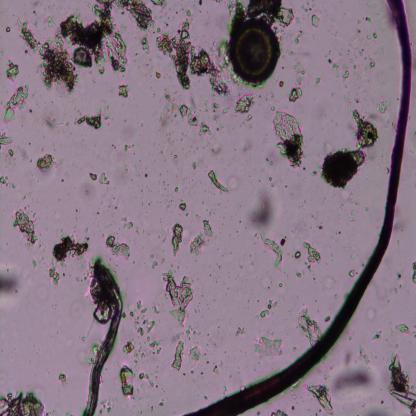Background material: (155, 25, 231, 100), (60, 1, 130, 76), (16, 14, 78, 92), (319, 144, 366, 194), (272, 106, 304, 172), (127, 300, 160, 360), (162, 270, 195, 327), (229, 1, 294, 25), (247, 186, 278, 233), (9, 206, 42, 249), (332, 365, 375, 397), (0, 258, 27, 304), (178, 102, 212, 137), (352, 108, 379, 152), (2, 83, 31, 123), (117, 1, 154, 32), (385, 352, 413, 392), (355, 12, 380, 55), (52, 234, 90, 262), (334, 192, 365, 226), (297, 305, 322, 346), (260, 229, 284, 271), (327, 52, 358, 84), (0, 393, 45, 415), (153, 99, 179, 135), (189, 218, 213, 256), (306, 383, 335, 414), (103, 231, 131, 260), (235, 89, 258, 123), (252, 338, 284, 361), (343, 85, 366, 115), (206, 168, 231, 195), (257, 141, 279, 170), (162, 133, 180, 168), (118, 365, 136, 399), (39, 108, 62, 133), (210, 102, 229, 132), (170, 222, 184, 260), (77, 339, 99, 363), (75, 113, 106, 130), (304, 238, 322, 266), (172, 340, 186, 374), (161, 176, 174, 210), (260, 298, 278, 322), (35, 152, 56, 172), (89, 168, 112, 186), (284, 29, 304, 49), (173, 328, 199, 343), (105, 194, 124, 214), (80, 179, 98, 200), (33, 278, 48, 302), (391, 268, 405, 293), (290, 61, 305, 84), (5, 58, 20, 81), (209, 352, 224, 375), (344, 240, 358, 264), (188, 342, 202, 366), (289, 84, 306, 103), (356, 341, 370, 364), (208, 139, 224, 159), (299, 0, 323, 13), (302, 263, 317, 283), (239, 134, 254, 154), (46, 265, 61, 284), (139, 370, 155, 387), (97, 397, 111, 416), (100, 98, 112, 120), (191, 153, 206, 170), (365, 304, 380, 321), (140, 190, 152, 211), (116, 83, 131, 99), (0, 176, 17, 190), (324, 273, 338, 290), (138, 38, 151, 56), (71, 302, 84, 320), (46, 401, 61, 416), (121, 138, 138, 151), (120, 159, 131, 179), (394, 322, 412, 334), (0, 132, 13, 148), (58, 372, 69, 390), (379, 100, 393, 114), (233, 326, 248, 339), (329, 228, 344, 241), (310, 12, 321, 29), (120, 221, 136, 232), (410, 261, 416, 289), (192, 298, 204, 312), (152, 0, 168, 10), (122, 340, 134, 353), (372, 328, 383, 342), (268, 172, 279, 185), (218, 382, 229, 395), (56, 154, 66, 168), (232, 173, 240, 190), (178, 199, 188, 211), (159, 393, 167, 407), (155, 232, 166, 242), (294, 249, 302, 260), (31, 257, 38, 269), (149, 401, 156, 413), (7, 148, 15, 158), (368, 59, 374, 71), (80, 224, 89, 232), (325, 311, 331, 323), (152, 260, 159, 270), (276, 280, 284, 288), (5, 25, 12, 34), (384, 163, 390, 173), (318, 224, 326, 231), (328, 89, 334, 98), (64, 410, 73, 416), (334, 292, 340, 301), (351, 269, 356, 279), (138, 406, 143, 416), (295, 271, 302, 278), (310, 171, 317, 178), (316, 76, 322, 84), (110, 142, 116, 150), (140, 121, 146, 129), (95, 207, 100, 216), (201, 394, 208, 400), (239, 263, 245, 270), (190, 368, 195, 376), (293, 342, 297, 352), (202, 199, 206, 208), (145, 174, 150, 180), (331, 251, 335, 258), (150, 253, 154, 260), (305, 198, 309, 205), (175, 186, 179, 193), (364, 205, 368, 212), (60, 177, 65, 182), (238, 219, 244, 223), (156, 386, 159, 388)
Cellulose filter fibre: (80, 262, 122, 414)
Cotton: (182, 0, 412, 414)
Diatom: (231, 20, 280, 86), (388, 390, 416, 409)
